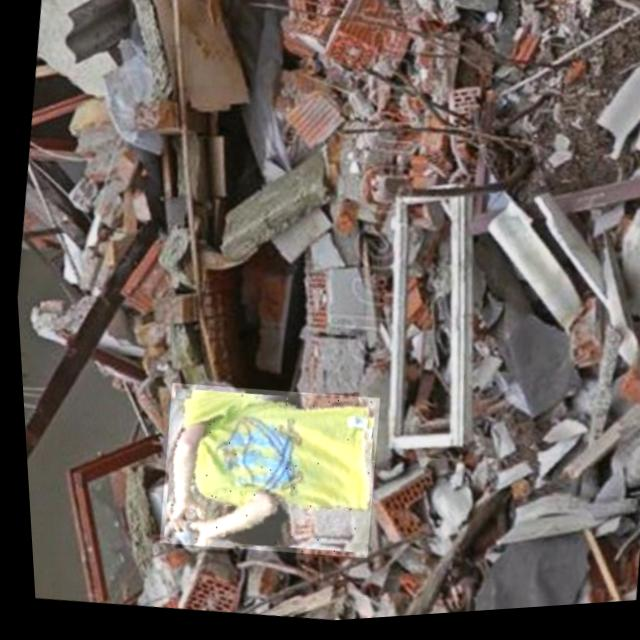Person in Rubble: (145, 373, 382, 572)
